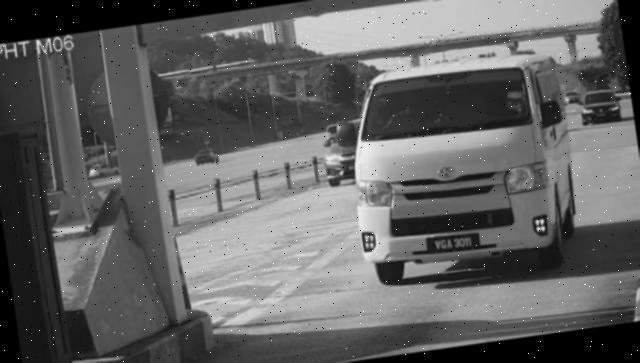License_Plate: (425, 228, 485, 260)
van: (339, 46, 588, 294)
